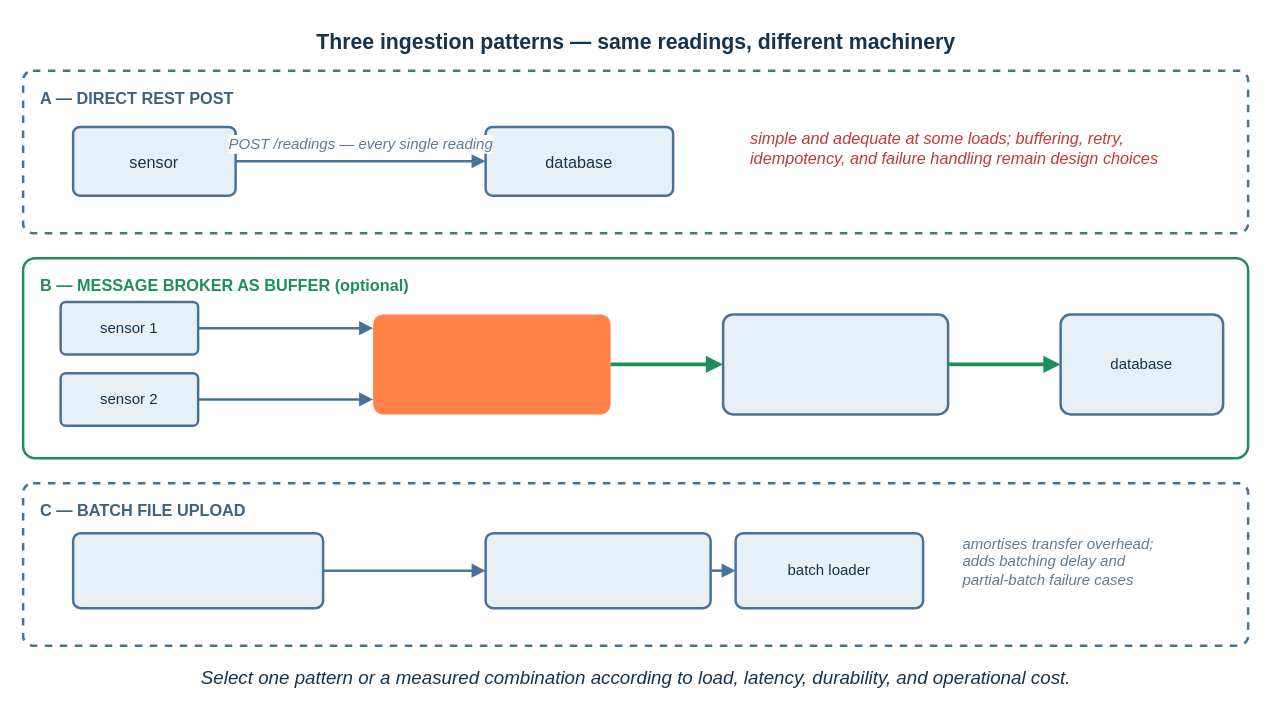
This 1270x714 diagram has some shape labels left out. Here are the shapes that lost their labels. From the top down, the centre of each, then its label:
the point at 491,364: BROKER (for example MQTT) configured retention
the point at 835,363: consumer lag bounded by capacity and retention
the point at 197,570: producer or collector forms bounded batches
the point at 597,570: files or objects chosen size and format
